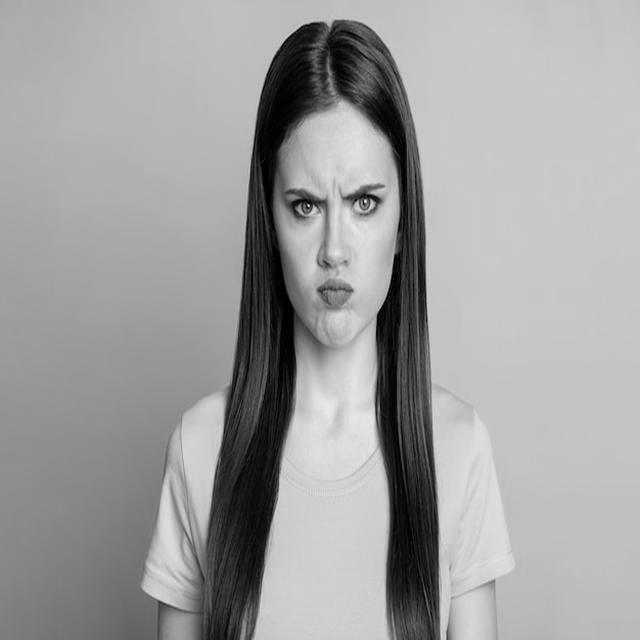Angry: (273, 114, 400, 347)
